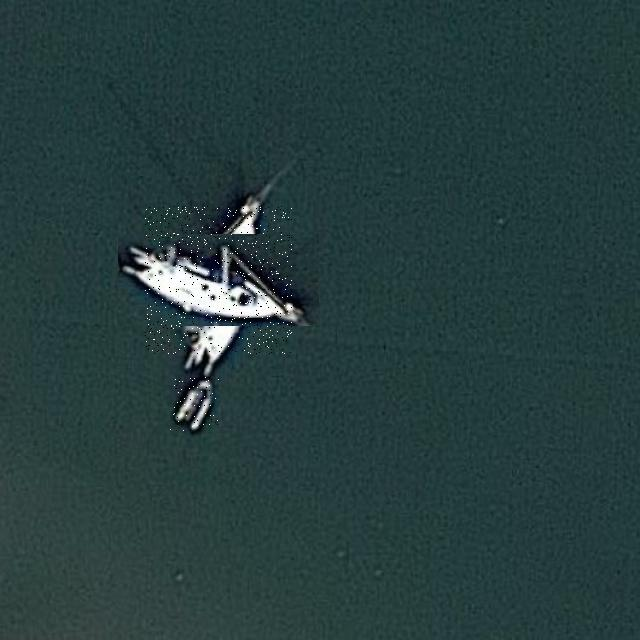boat: (145, 206, 292, 354), (170, 377, 219, 431)
